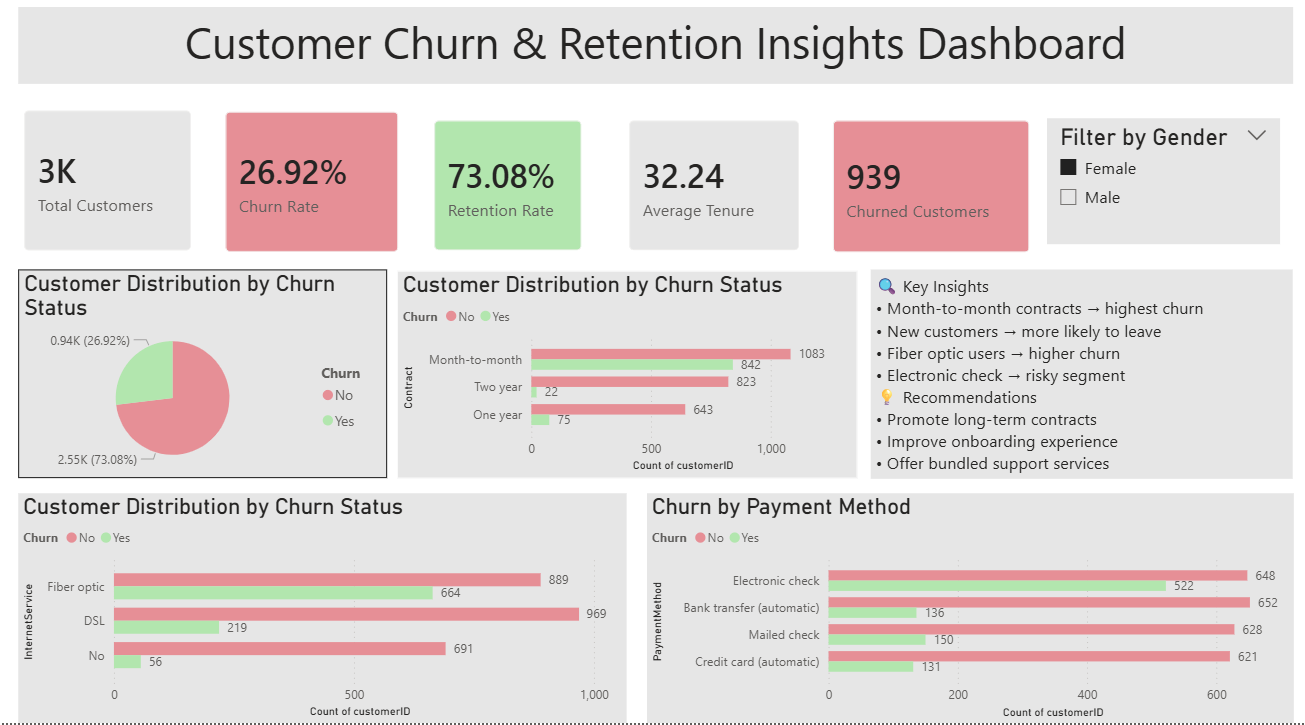

The page's visual inventory and layout, read from the dashboard file:
{"tool":"powerbi","page":{"name":"Page 1","canvas":[1280,720],"ordinal":0},"visuals":[{"type":"cardVisual","fields":{"Data":["TelcoData.Total Customers"]},"box":[9.6,104.3,197.6,171.5],"z":0},{"type":"cardVisual","fields":{"Data":["TelcoData.Churn Rate"]},"box":[207.2,105.7,203.1,171.5],"z":1000},{"type":"cardVisual","fields":{"Data":["TelcoData.Average Tenure"]},"box":[601,113.9,200.3,161.9],"z":2000},{"type":"cardVisual","fields":{"Data":["TelcoData.Churned Customers"]},"box":[801.4,113.9,226.4,163.3],"z":3000},{"type":"cardVisual","fields":{"Data":["TelcoData.Retention Rate"]},"box":[410.3,113.9,178.4,161.9],"z":4000},{"type":"pieChart","title":"Customer Distribution by Churn Status","fields":{"Category":["TelcoData.Churn"],"Y":["CountNonNull(TelcoData.customerID)"]},"box":[20.8,276.4,360.7,204.2],"z":5000},{"type":"clusteredBarChart","title":"Customer Distribution by Churn Status","fields":{"Category":["TelcoData.Contract"],"Y":["CountNonNull(TelcoData.customerID)"],"Series":["TelcoData.Churn"]},"box":[391.1,277.2,450.1,203.1],"z":6000},{"type":"clusteredBarChart","title":"Churn by Payment Method","fields":{"Category":["TelcoData.PaymentMethod"],"Y":["CountNonNull(TelcoData.customerID)"],"Series":["TelcoData.Churn"]},"box":[635.3,495.4,632.6,225],"z":7000},{"type":"clusteredBarChart","title":"Customer Distribution by Churn Status","fields":{"Category":["TelcoData.InternetService"],"Y":["CountNonNull(TelcoData.customerID)"],"Series":["TelcoData.Churn"]},"box":[20.8,495.2,595.5,225],"z":8000},{"type":"slicer","fields":{"Values":["TelcoData.gender"]},"box":[1027.8,129,227.8,123.5],"z":9000},{"type":"textbox","box":[20.6,19.2,1247.3,75.5],"z":10000},{"type":"textbox","box":[854.9,275.8,413,204.5],"z":11000}]}

Visuals, with their boxes in screenshot pixels (x1, y1, x2, y2), scaled from the page's 1280x720 canvas onto the 1305x725 screenshot:
cardVisual - TelcoData.Total Customers: Rect(10, 105, 211, 278)
cardVisual - TelcoData.Churn Rate: Rect(211, 106, 418, 279)
cardVisual - TelcoData.Average Tenure: Rect(613, 115, 817, 278)
cardVisual - TelcoData.Churned Customers: Rect(817, 115, 1048, 279)
cardVisual - TelcoData.Retention Rate: Rect(418, 115, 600, 278)
"Customer Distribution by Churn Status" pieChart: Rect(21, 278, 389, 484)
"Customer Distribution by Churn Status" clusteredBarChart: Rect(399, 279, 858, 484)
"Churn by Payment Method" clusteredBarChart: Rect(648, 499, 1293, 724)
"Customer Distribution by Churn Status" clusteredBarChart: Rect(21, 499, 628, 724)
slicer - TelcoData.gender: Rect(1048, 130, 1280, 254)
textbox: Rect(21, 19, 1293, 95)
textbox: Rect(872, 278, 1293, 484)
